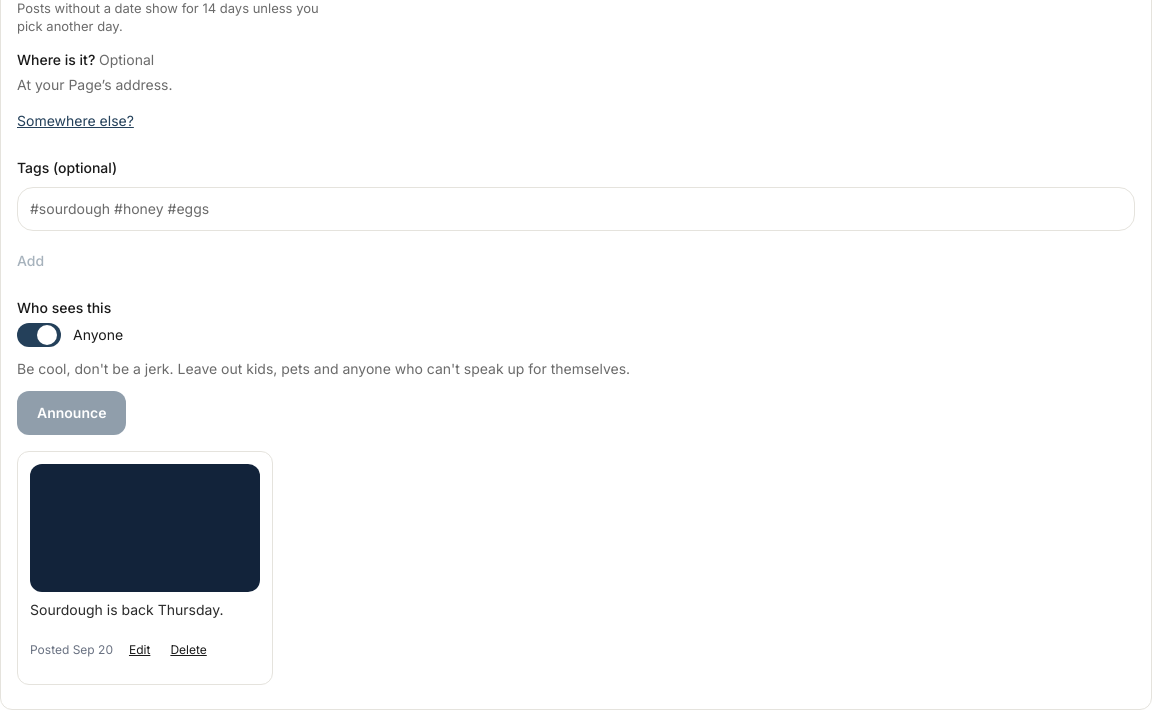
it: #318 — deleting a post › deletes on confirm and takes the post off the Page
The image size is (1152, 710).
(page scrolled)
Step 1. Click the button with test id "page-post-delete" → coordinates (189, 650), box x1=166 y1=628 x2=211 y2=672
(page scrolled)
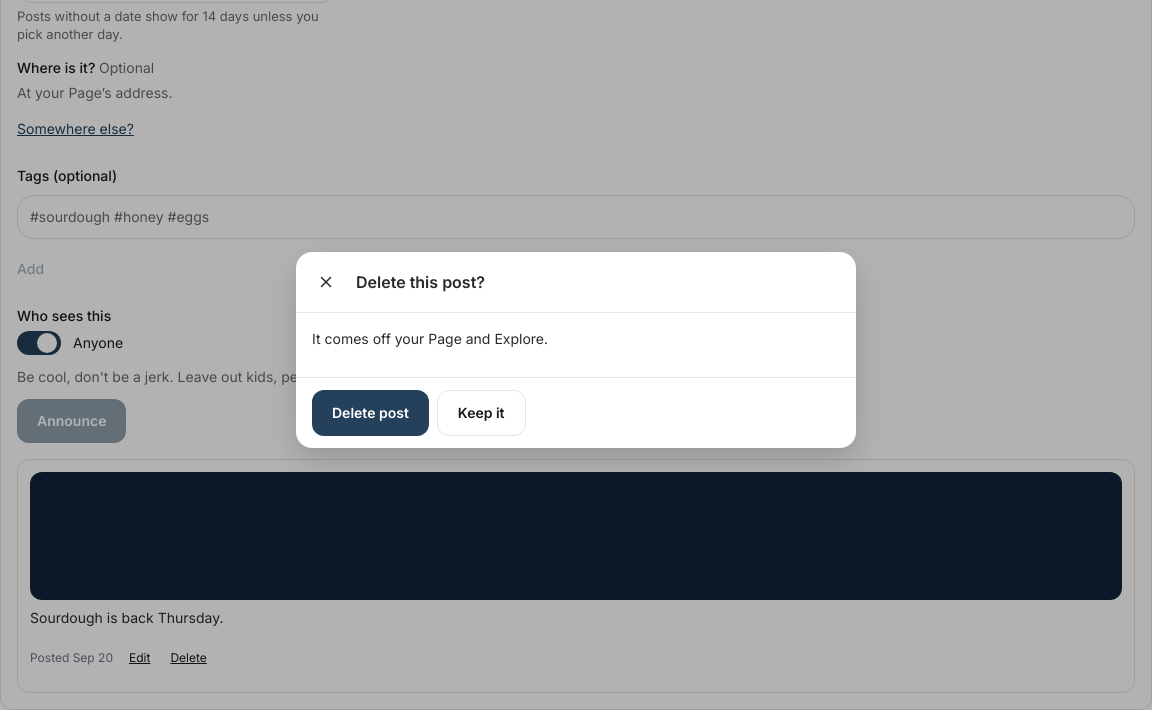
Step 2. Click the button "Delete post" → coordinates (370, 413), box x1=312 y1=390 x2=429 y2=436
(page scrolled)
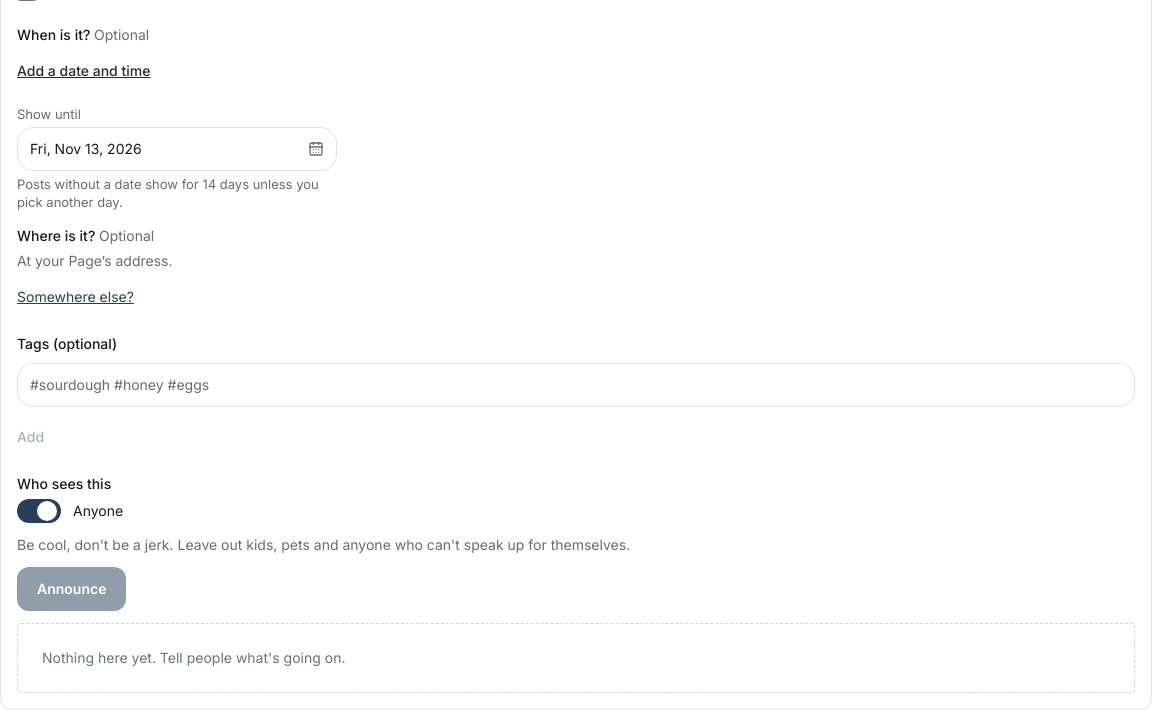
Result: no list items with test id "page-post" are shown
